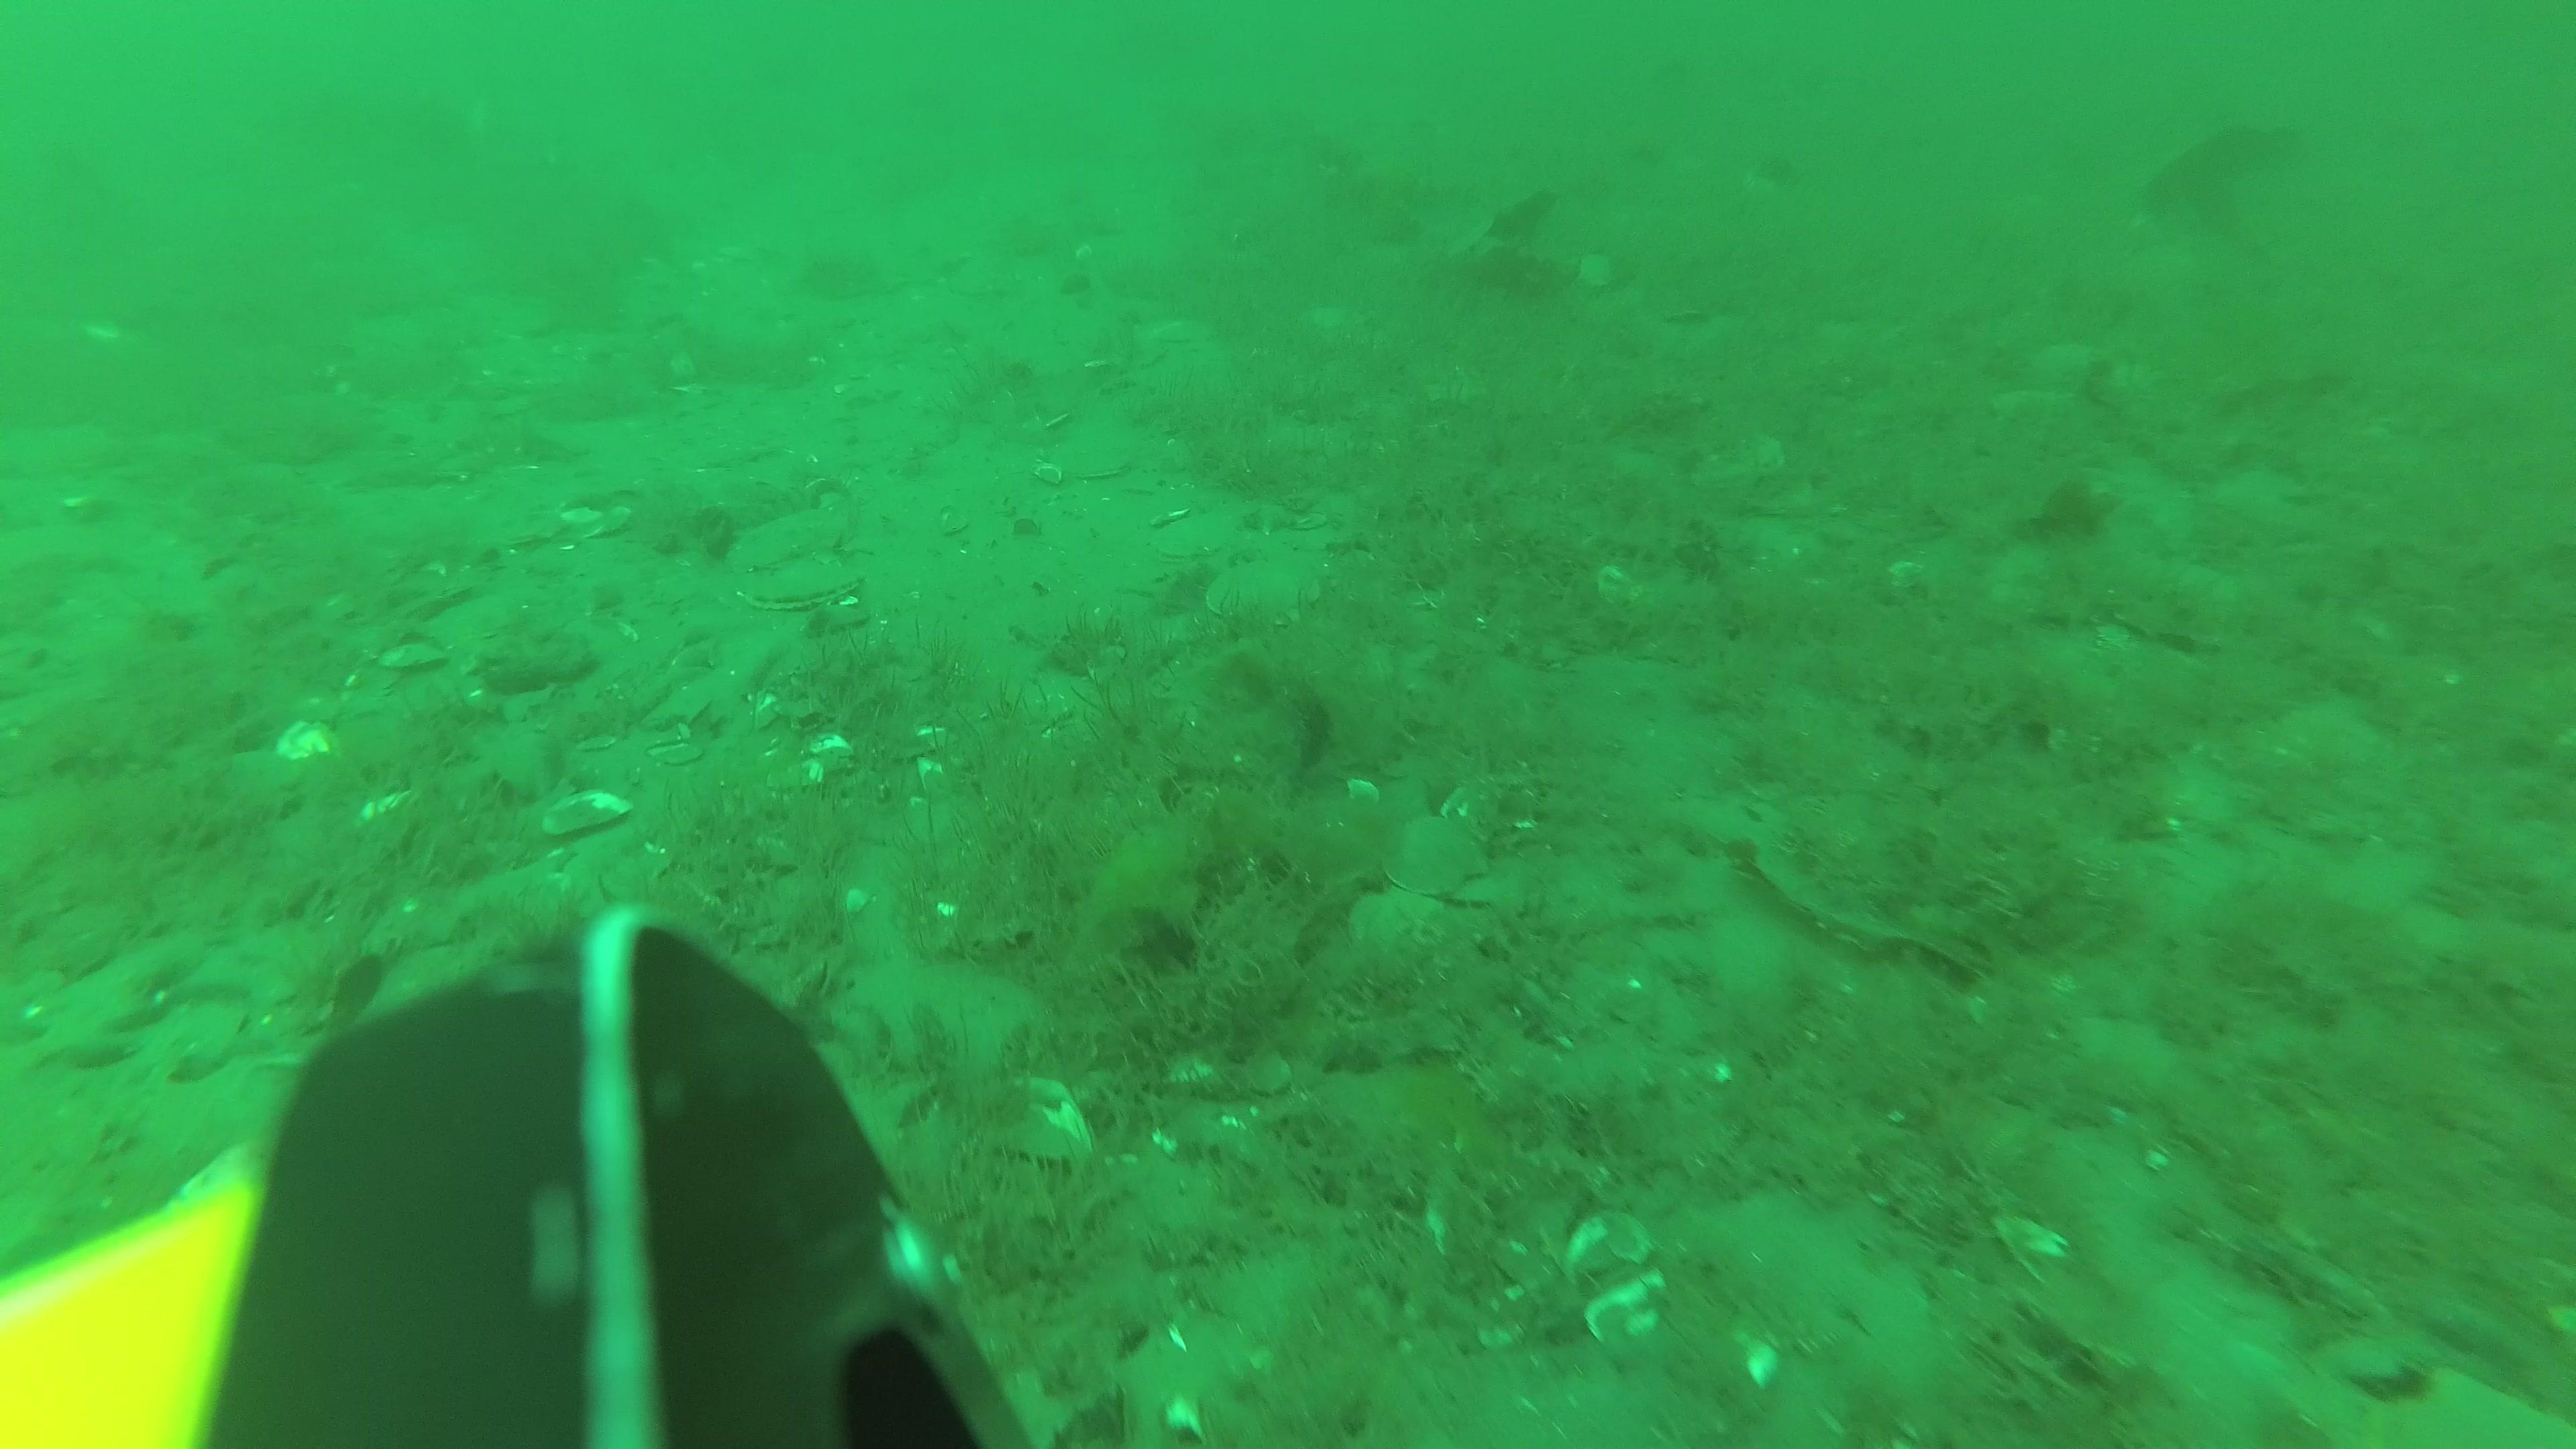scallop: (2374, 1355, 2576, 1449), (1350, 888, 1442, 977), (1392, 817, 1491, 899), (731, 502, 847, 571), (743, 554, 860, 617), (1207, 566, 1320, 621), (1053, 421, 1139, 478), (1148, 508, 1237, 563)
